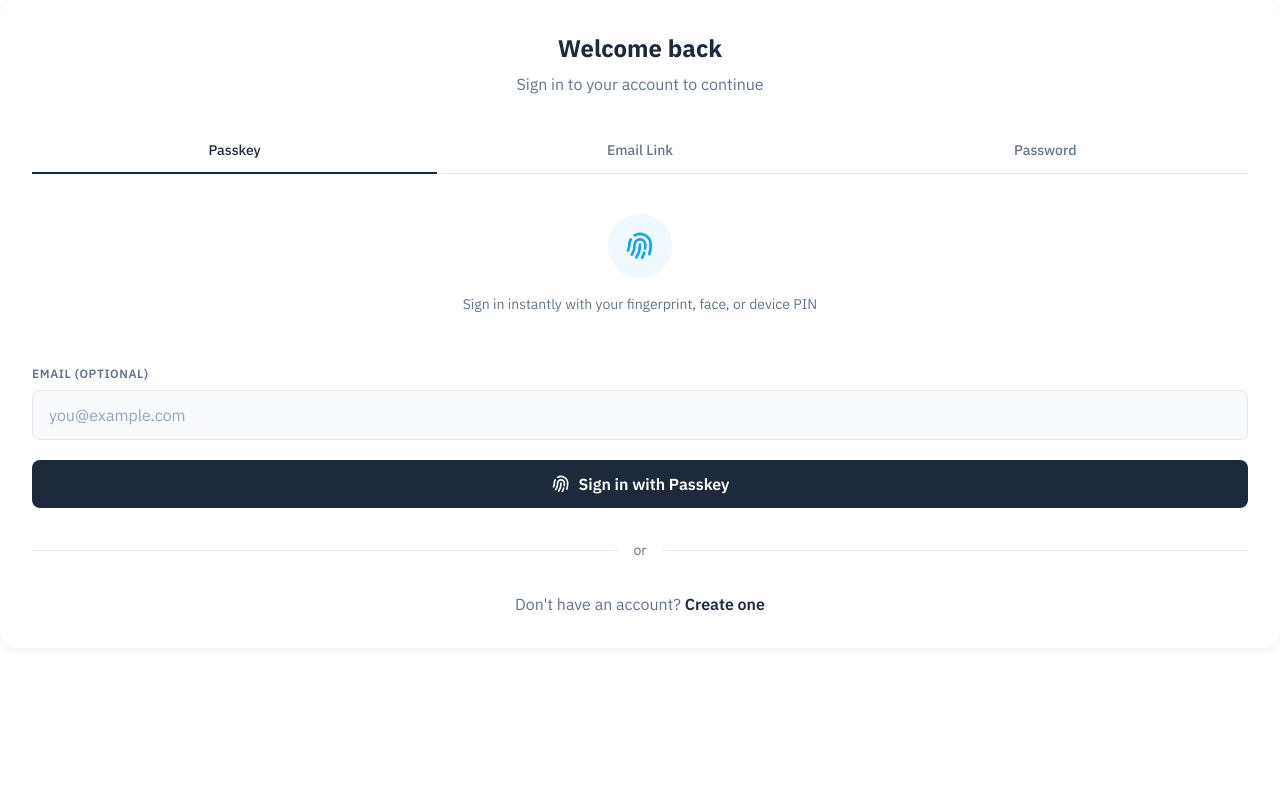
Test: LoginPage › password mode › should toggle password visibility
The width and height of the screenshot is (1280, 800).
Click the button "Password".
click(1045, 151)  # box [843,128,1248,174]
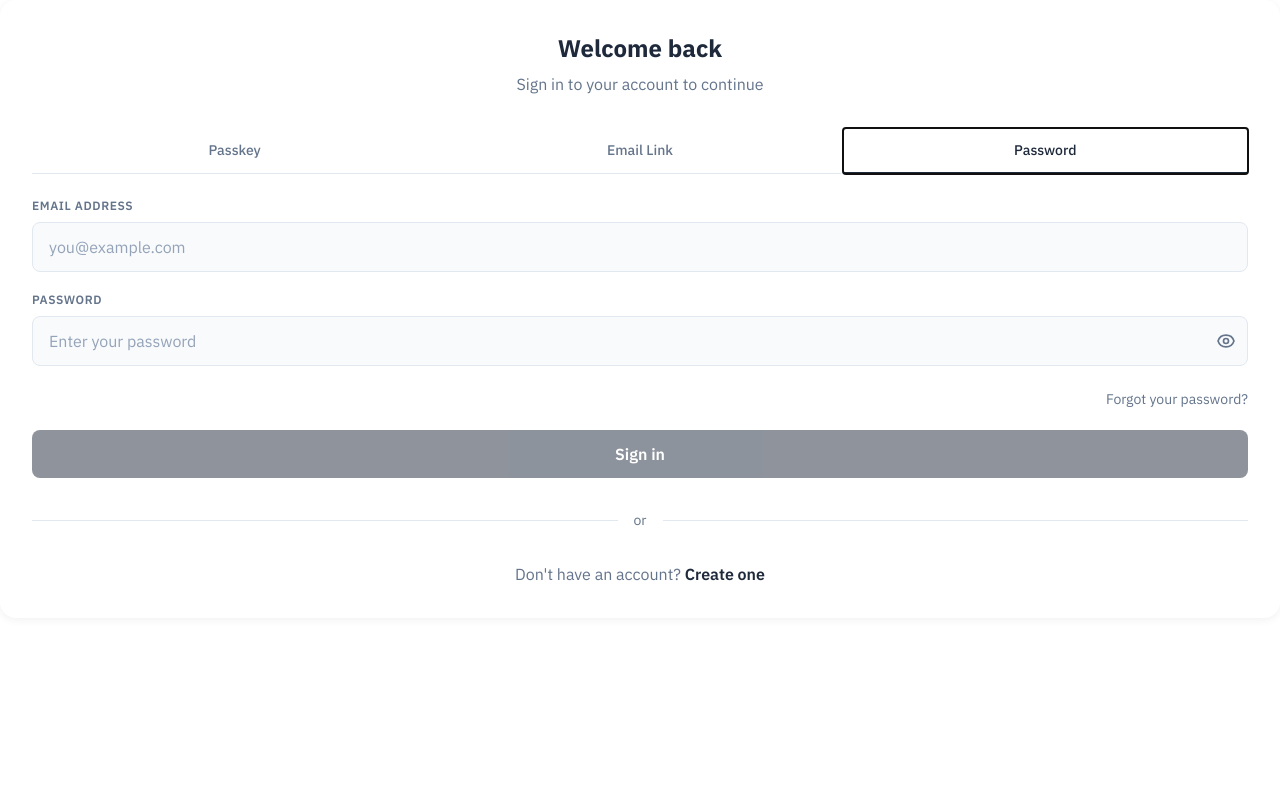
Click the button named "show password".
click(1226, 341)  # box [1216,331,1236,351]
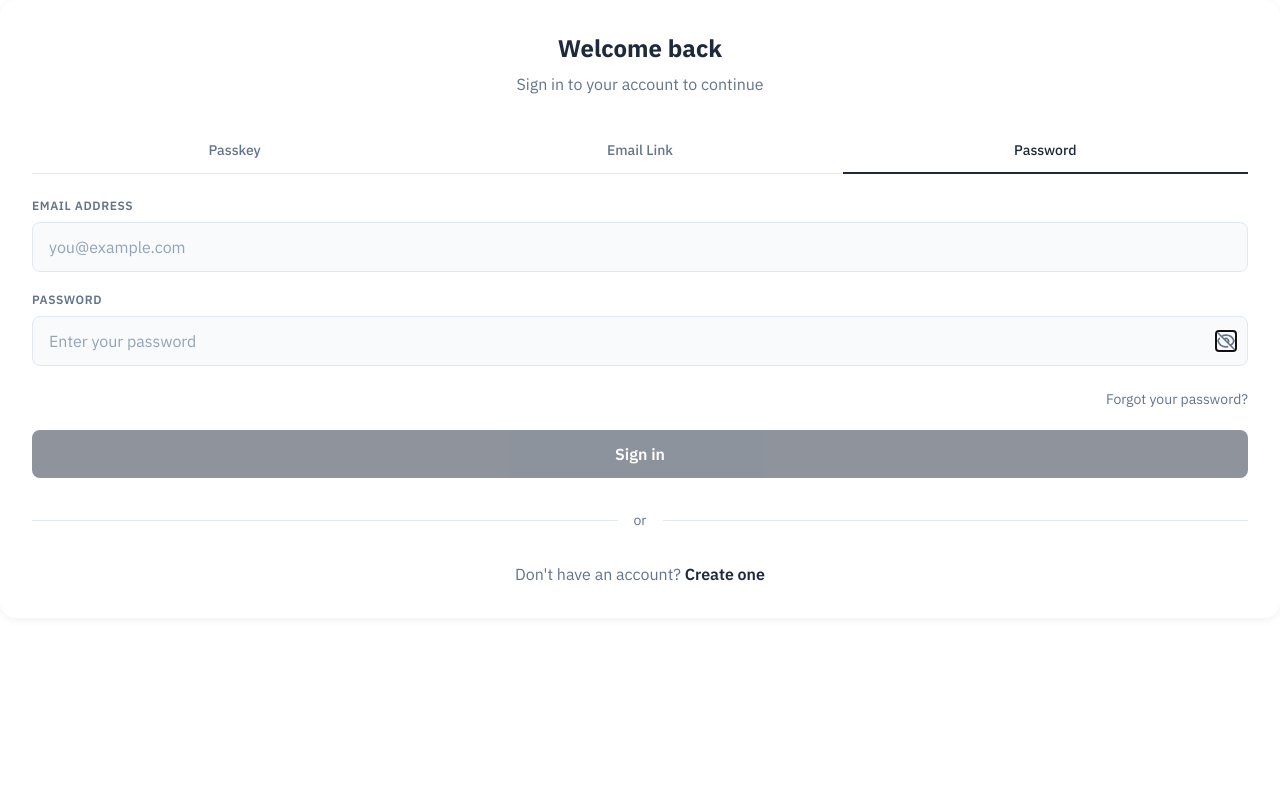
Result: the button named "hide password" is shown at [1216,331,1236,351]
